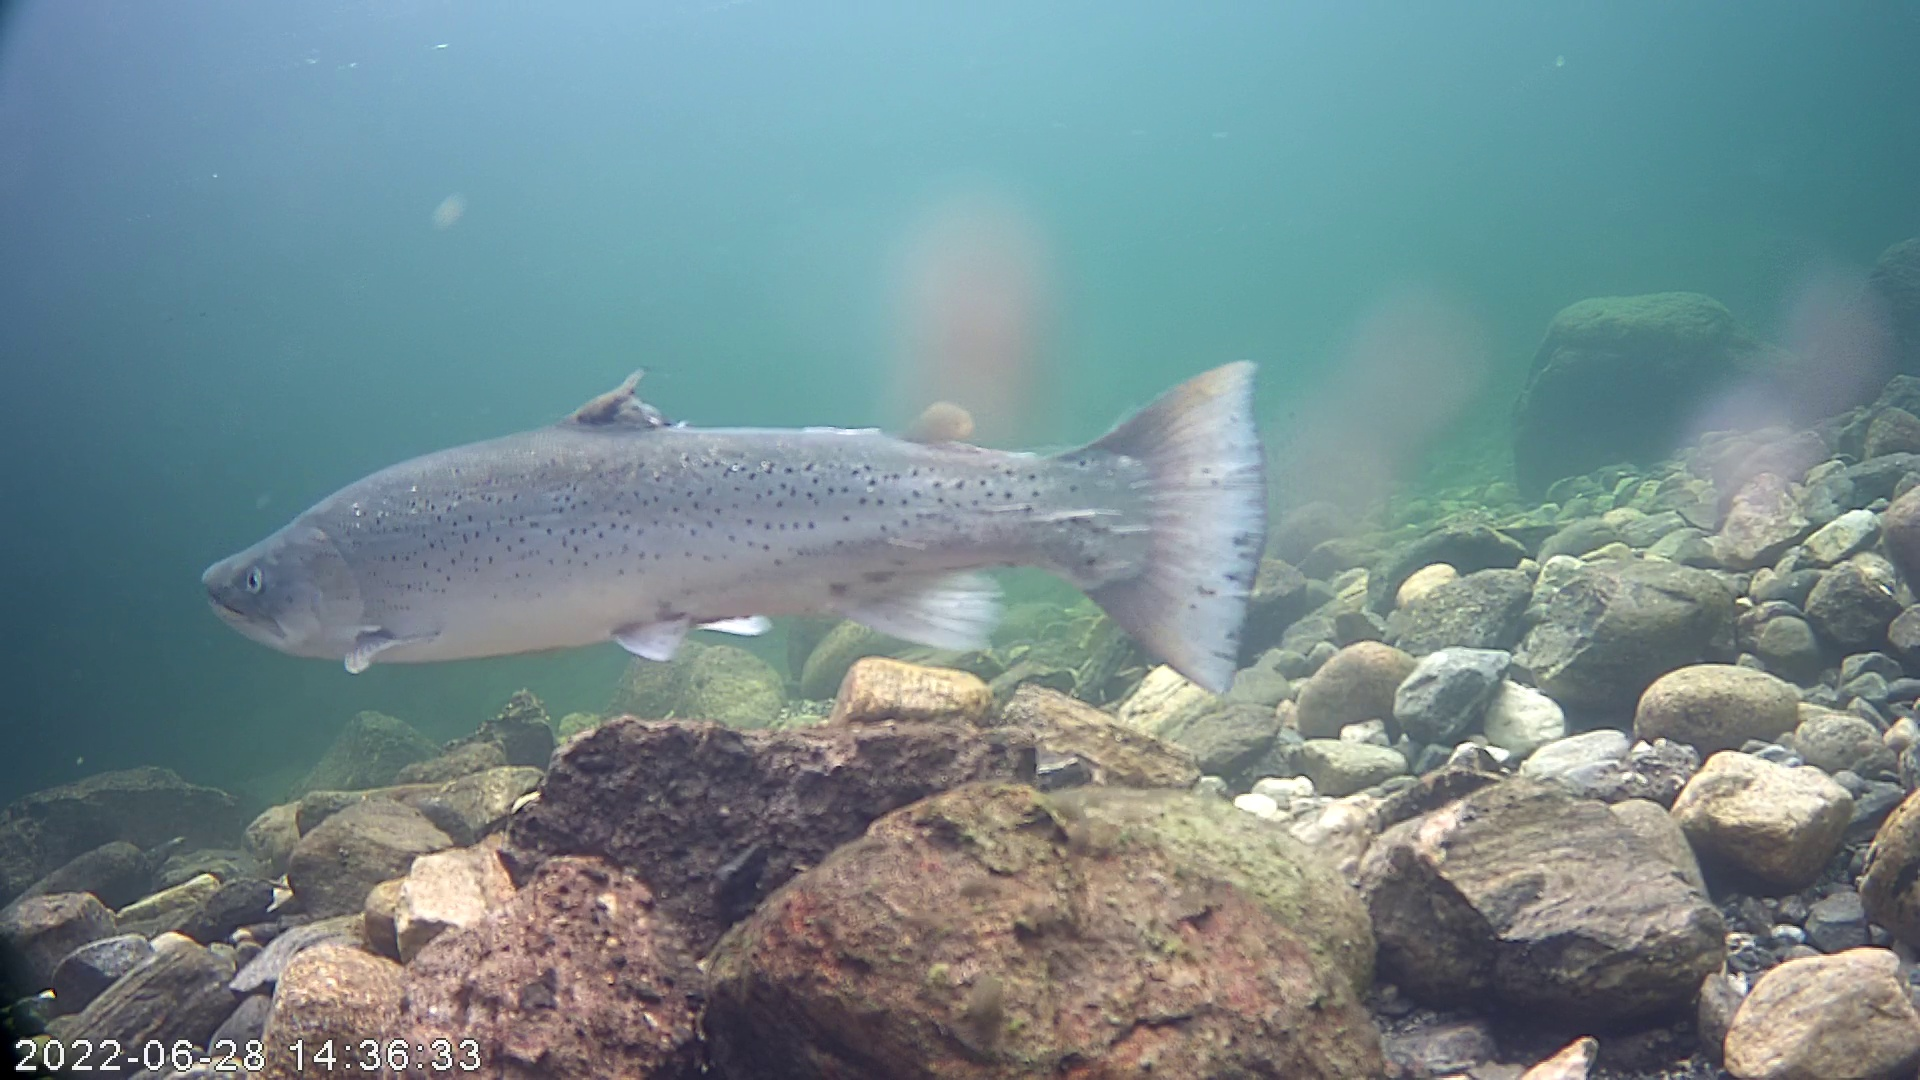salmon: (227, 285, 1316, 727)
